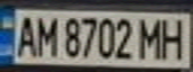0: (97, 15, 118, 60)
2: (115, 15, 139, 61)
7: (78, 14, 100, 58)
8: (60, 14, 81, 58)
A: (12, 12, 39, 59)
H: (157, 15, 190, 60)
M: (136, 15, 166, 60), (33, 12, 60, 57)
